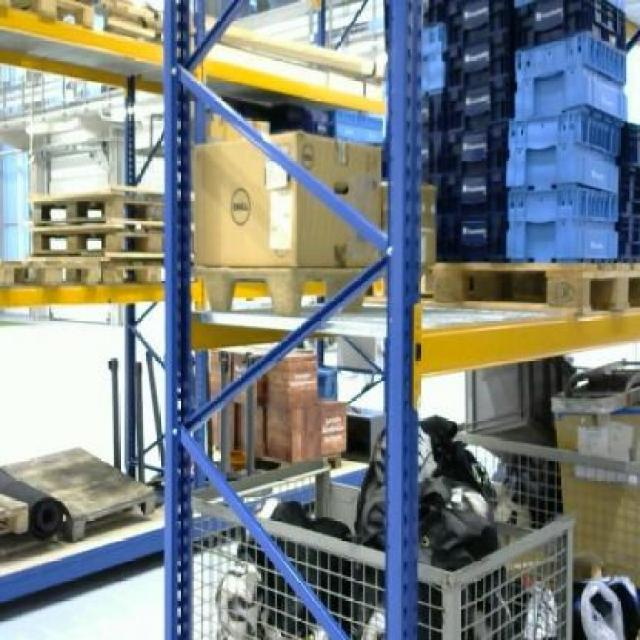box: (189, 132, 380, 268), (262, 404, 322, 464), (267, 350, 318, 406), (323, 400, 349, 458)
